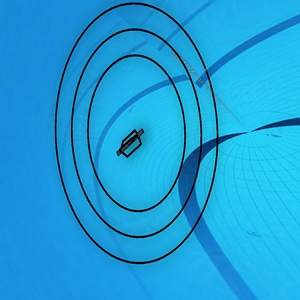circle: (52, 2, 226, 272)
submarine: (116, 127, 147, 159)
